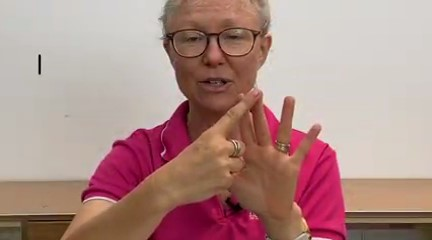I: (165, 78, 333, 225)
